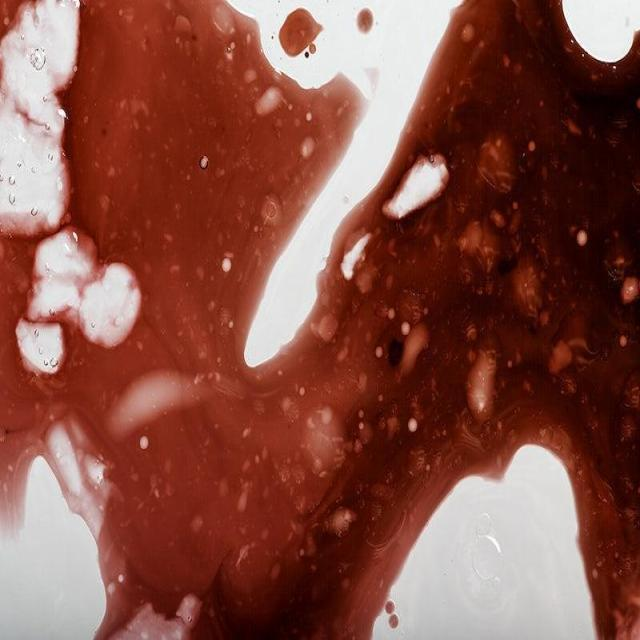flood: (4, 291, 426, 640), (397, 0, 640, 449), (60, 0, 353, 300)
